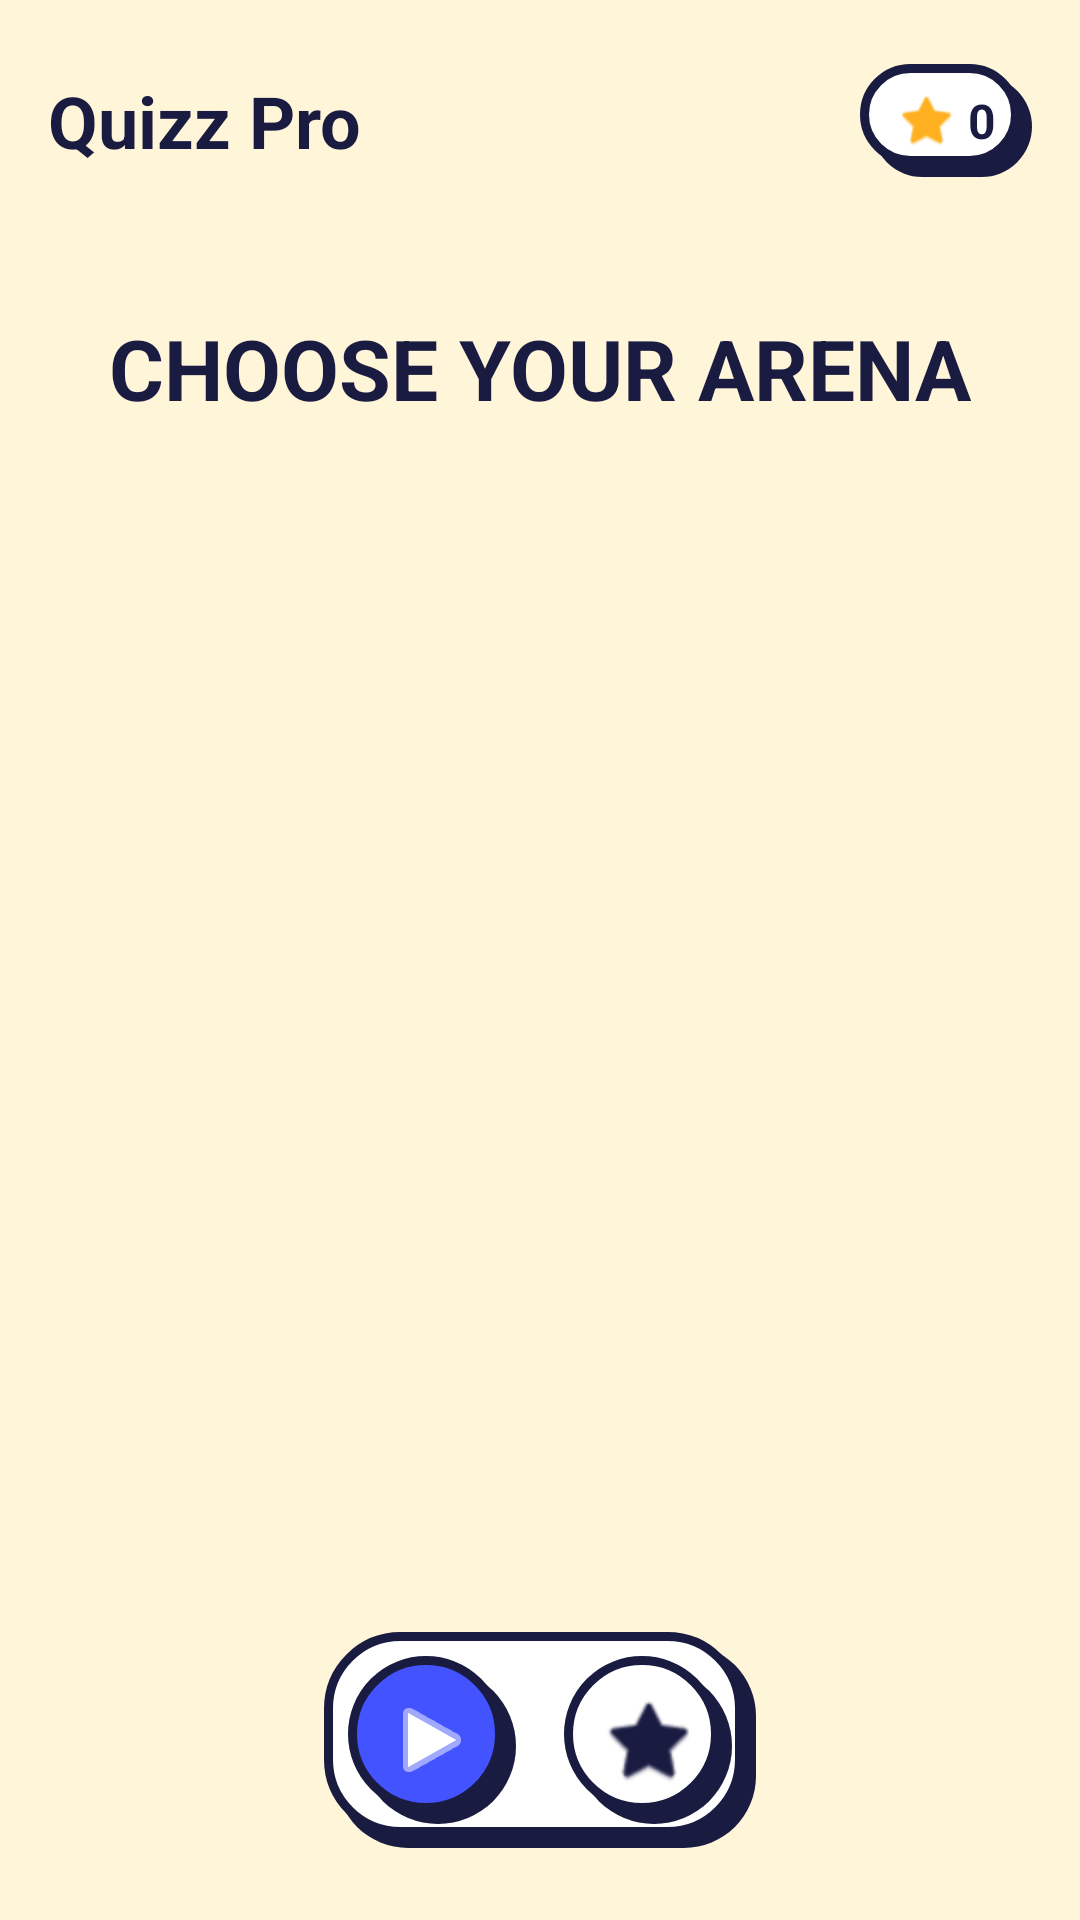

Icons on this 1080px x 1920px Android screen, each with the point to tap as (x=x, y=y):
play: (x=432, y=1740)
Points: (x=926, y=120)
